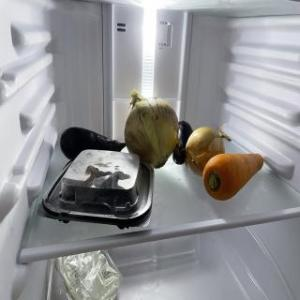carrot: (203, 150, 269, 202)
eggplant: (61, 126, 128, 166), (175, 120, 193, 168)
onion: (126, 92, 182, 178), (186, 122, 226, 178)
